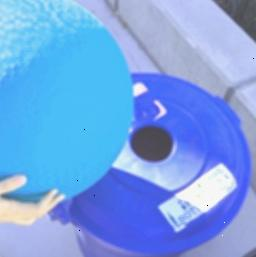algae: (0, 0, 131, 205)
